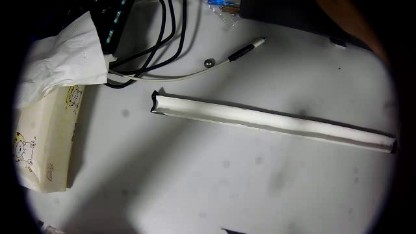gangzhu: (202, 56, 213, 68)
